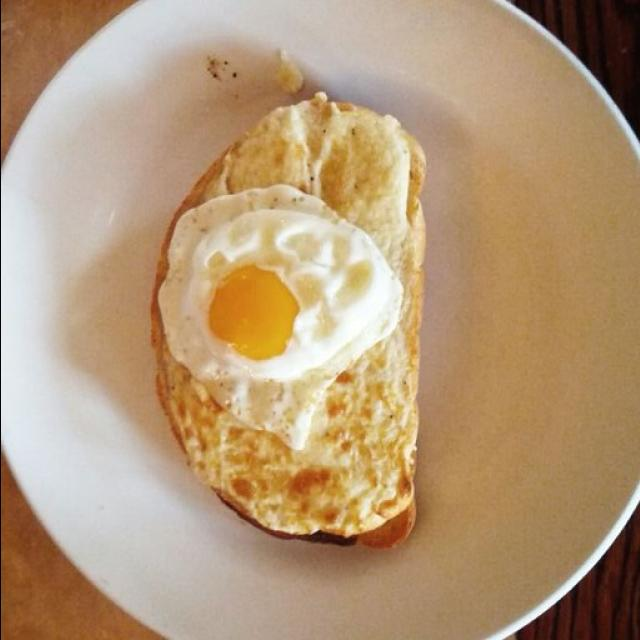telur ceplok: (158, 184, 378, 422)
